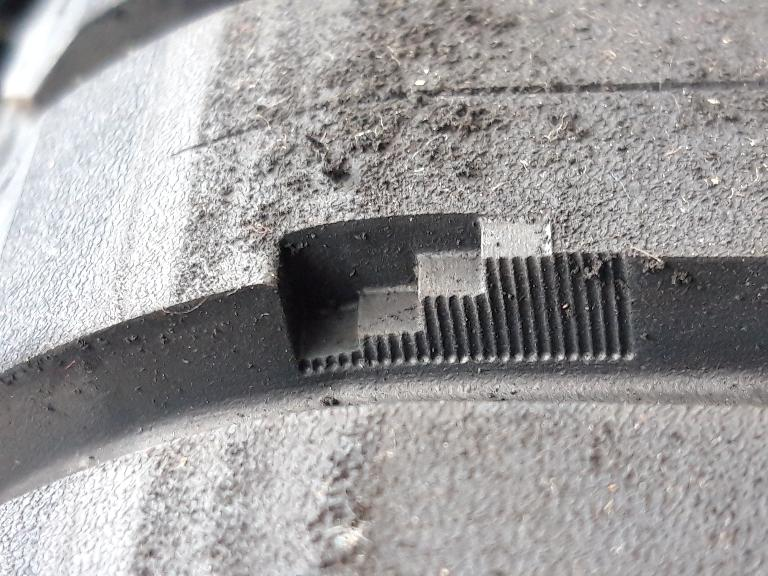temoin:75: (262, 202, 576, 397)
